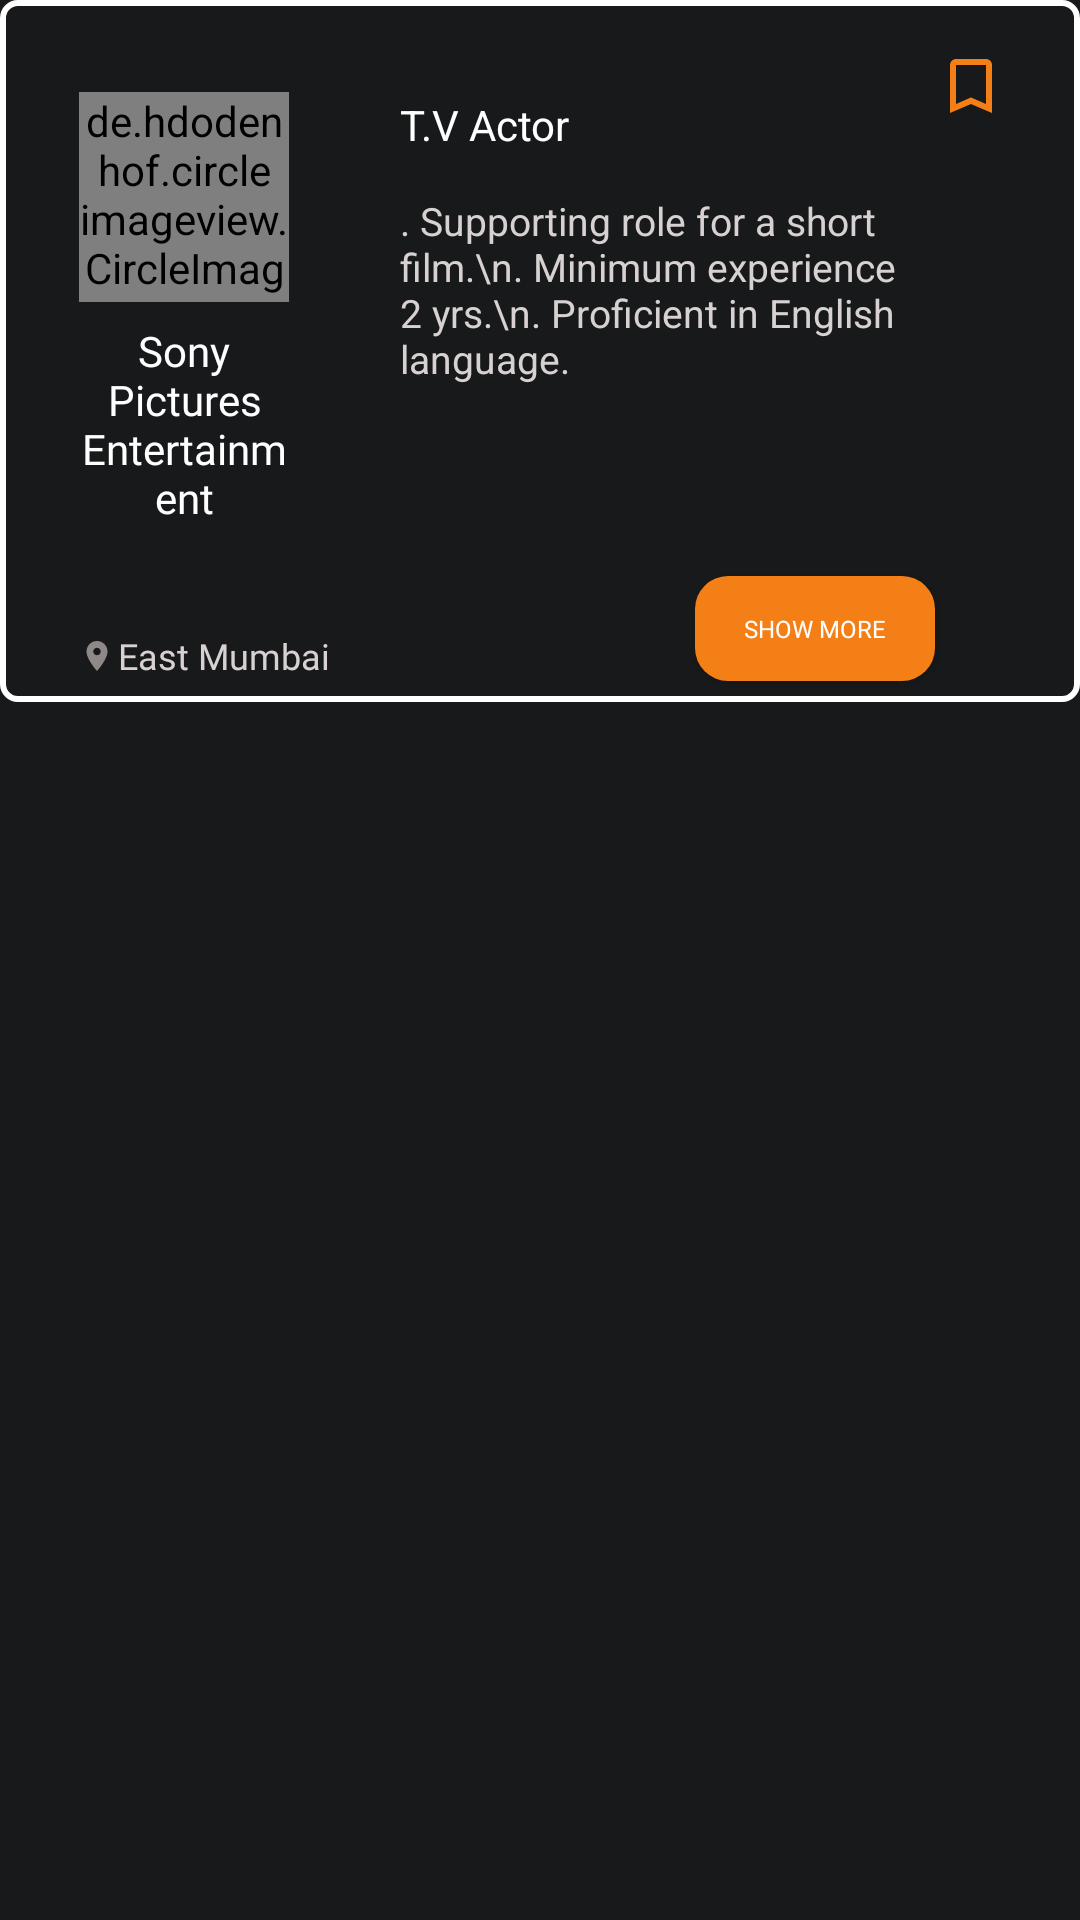

Icons on this 1080px x 1920px Android screen, each with the point to tap as (x=x, y=y):
bookmark border: (x=971, y=86)
location on: (x=97, y=656)
